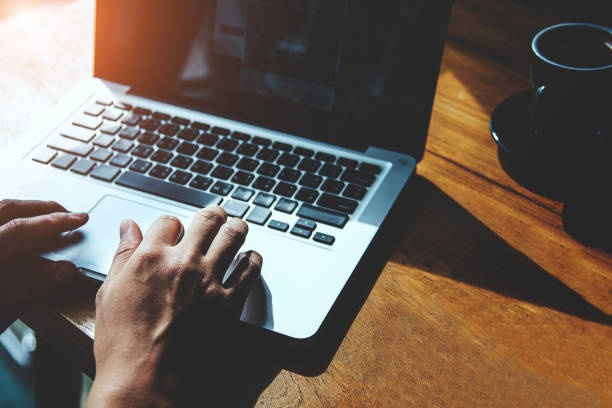keyboard: (31, 96, 382, 248)
laptop: (1, 1, 448, 339)
